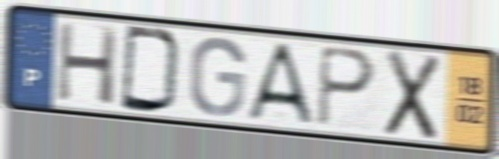A: (243, 39, 319, 128)
D: (118, 22, 185, 117)
G: (186, 35, 249, 119)
H: (54, 20, 120, 108)
P: (316, 43, 379, 130)
X: (381, 47, 444, 144)
